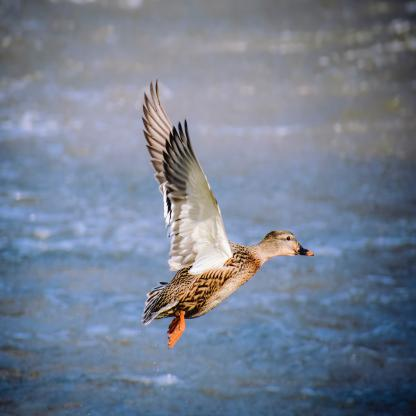bird: (142, 78, 314, 352)
